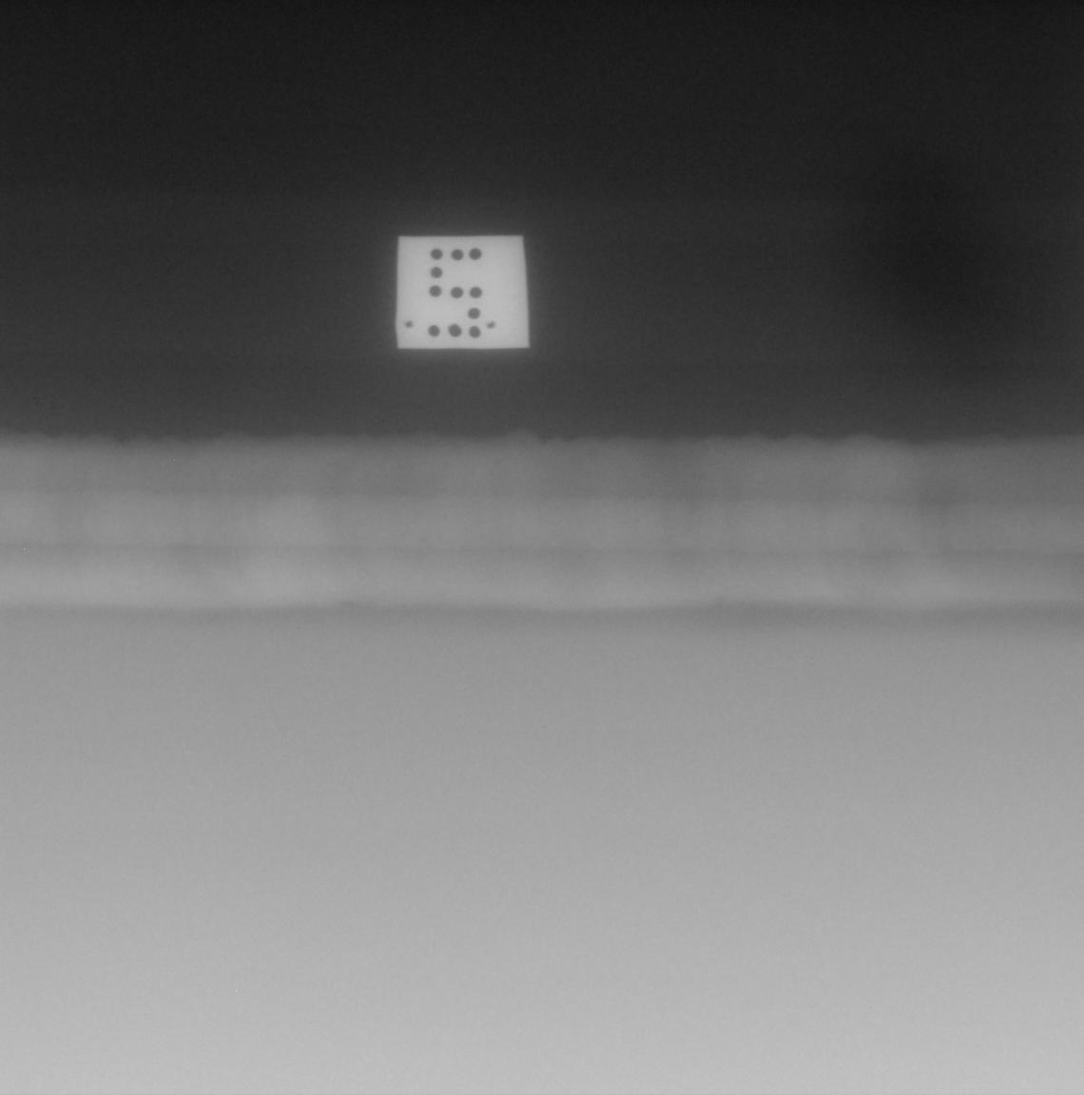Pore/Porosity: (698, 472, 706, 480), (420, 538, 426, 543)
